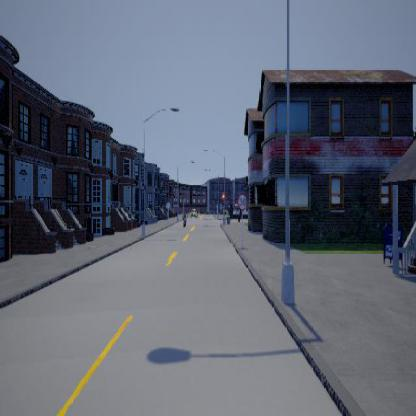motobike: (182, 210, 186, 226)
traffic_light_red: (222, 192, 224, 204)
traffic_sign_30: (236, 193, 246, 209)
